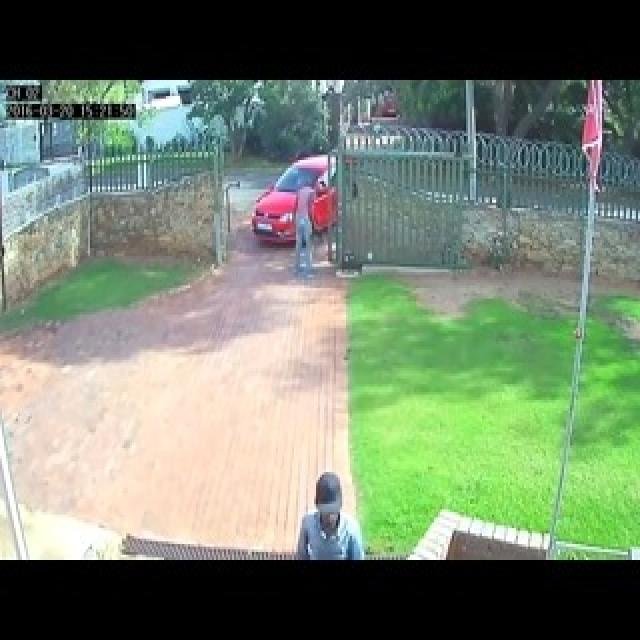thief: (297, 462, 361, 567), (289, 164, 334, 295)
